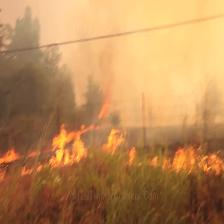fire: (0, 91, 224, 182)
